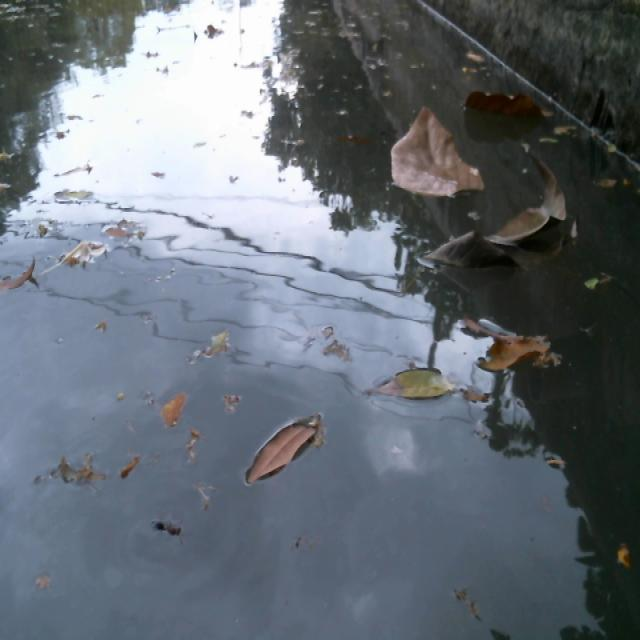Big-leaf: (442, 143, 578, 274), (382, 91, 482, 213), (465, 301, 582, 393), (467, 77, 565, 124)
Small-leaf: (228, 407, 315, 496), (346, 357, 469, 415), (0, 240, 47, 321), (162, 384, 201, 436)
